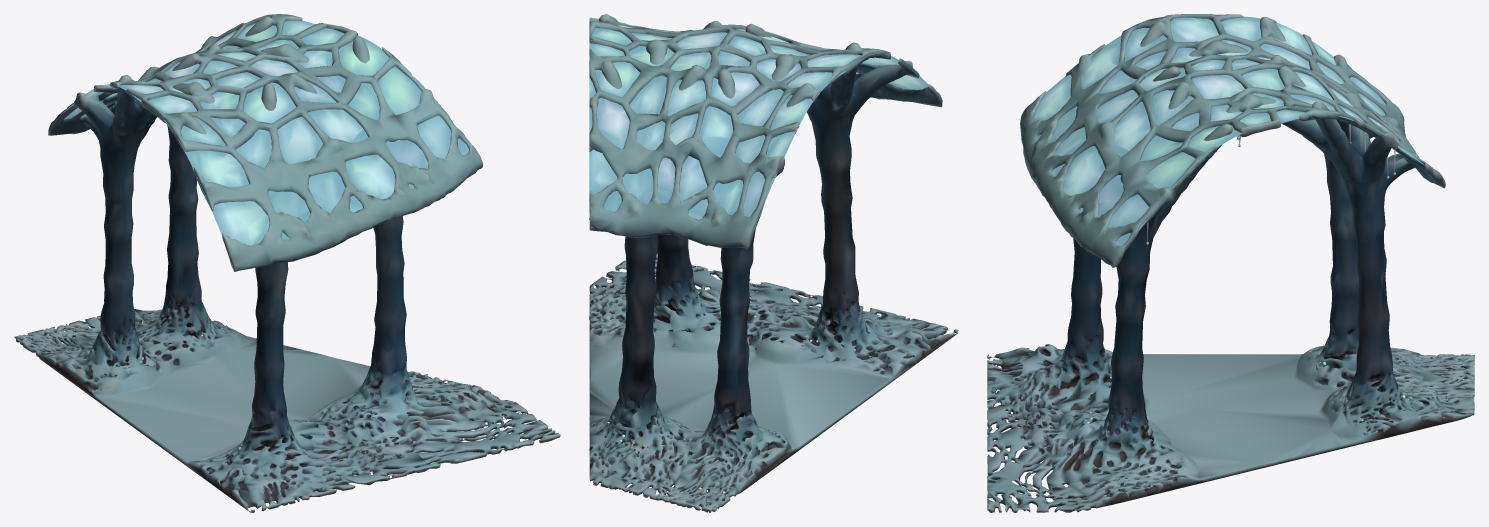
The model's file is gecit_kavis.glb.
The picture shows the model from 3 angles, left to right: view 1: azimuth 30°, elevation 25°; view 2: azimuth 150°, elevation 25°; view 3: azimuth 270°, elevation 25°; orthographic projection. The views are drawn at different scales.
Parts seen in each view (by area): view 1: gecit_kavis_LOD0; view 2: gecit_kavis_LOD0; view 3: gecit_kavis_LOD0.
Boxes of the visible parts, x1,y1,x2,y2 form: gecit_kavis_LOD0: (14, 14, 560, 512); gecit_kavis_LOD0: (589, 14, 958, 512); gecit_kavis_LOD0: (987, 14, 1474, 512).
Size of what is drawn, in the model's own units: 11.11 by 11.53 by 14.72.
